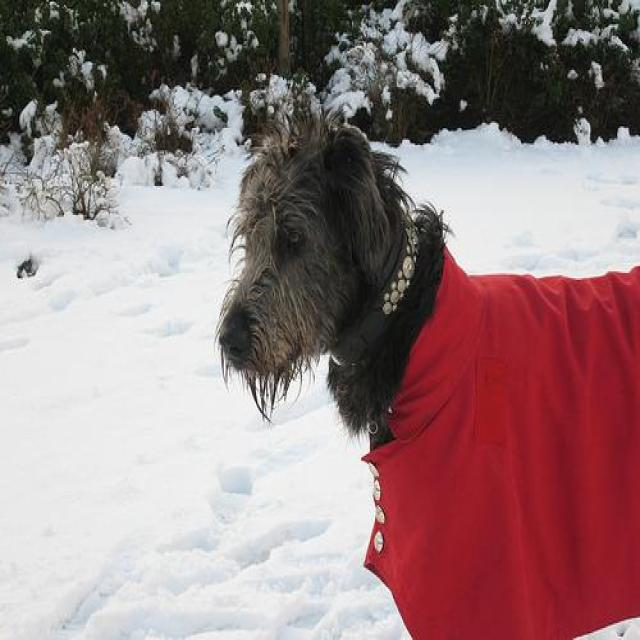irish_wolfhound: (217, 101, 638, 638)
